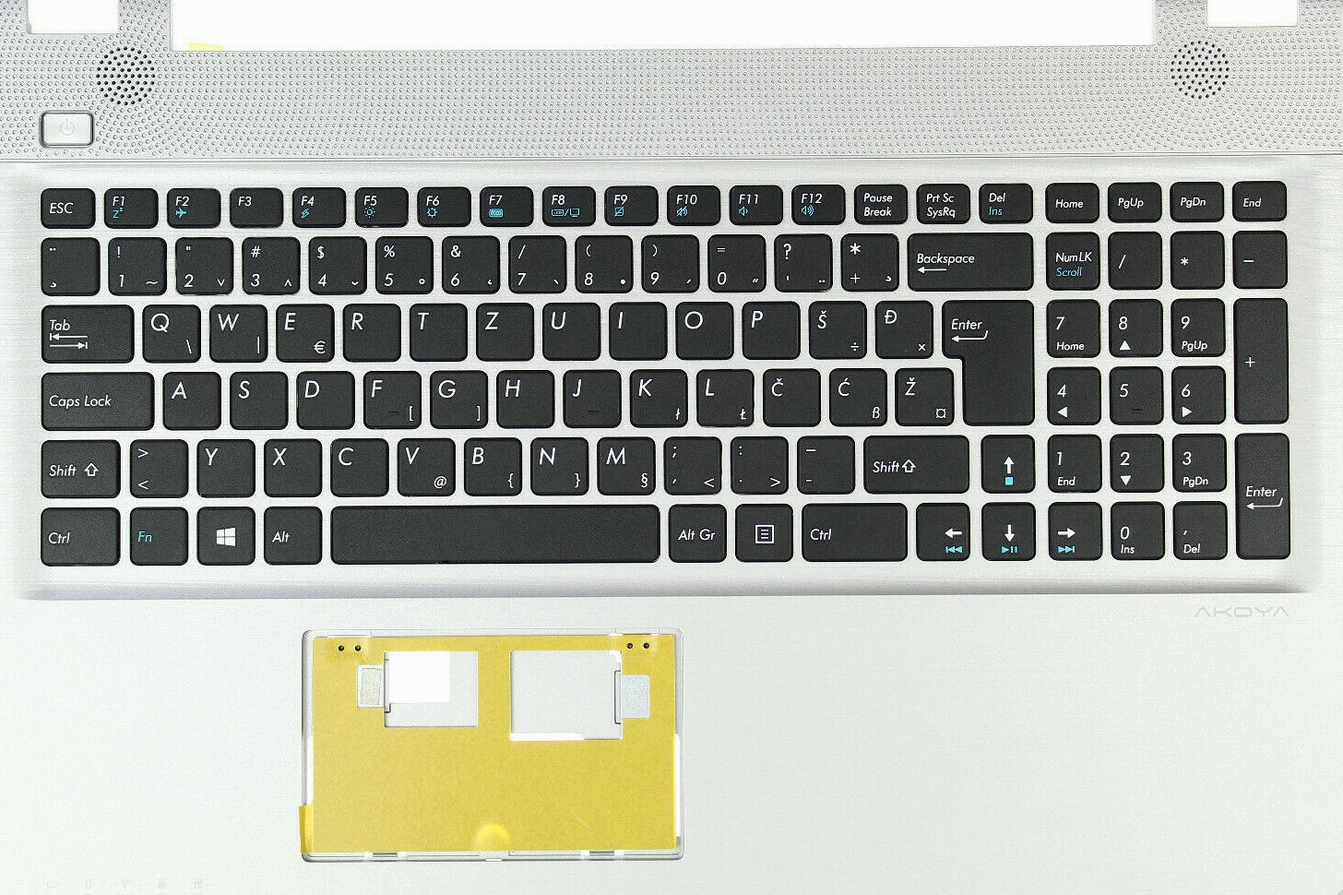0: (705, 232, 765, 291)
1: (107, 234, 165, 294)
2: (173, 234, 232, 293)
3: (240, 234, 299, 293)
4: (305, 233, 365, 292)
5: (373, 233, 432, 292)
6: (440, 233, 497, 292)
7: (507, 233, 565, 292)
8: (573, 233, 631, 292)
9: (639, 232, 698, 291)
a: (160, 369, 220, 428)
alt-left: (260, 505, 321, 564)
altgr-right: (666, 501, 725, 560)
b: (461, 436, 521, 495)
c: (328, 436, 388, 496)
comma: (662, 436, 721, 495)
d: (295, 369, 353, 429)
del: (905, 228, 1031, 289)
e: (273, 302, 333, 361)
enter: (939, 294, 1031, 423)
f: (362, 368, 420, 428)
g: (428, 366, 485, 427)
h: (494, 367, 553, 426)
i: (608, 300, 666, 359)
j: (562, 366, 620, 426)
k: (628, 365, 686, 426)
keyboard: (16, 151, 1312, 594)
l: (695, 366, 754, 426)
less: (128, 437, 188, 497)
m: (594, 433, 653, 494)
minus: (794, 433, 854, 493)
n: (527, 434, 586, 494)
o: (672, 298, 732, 359)
p: (741, 299, 799, 359)
plus: (838, 231, 897, 291)
point: (729, 434, 788, 494)
q: (138, 300, 198, 361)
r: (341, 302, 401, 362)
s: (228, 369, 287, 429)
shift-left: (35, 435, 118, 497)
shift-lock: (35, 368, 153, 429)
shift-right: (861, 431, 969, 493)
space: (328, 502, 658, 562)
strg-left: (34, 504, 118, 565)
strg-right: (796, 500, 908, 560)
t: (409, 301, 467, 360)
tab: (37, 300, 132, 362)
u: (541, 300, 600, 360)
v: (395, 436, 455, 495)
w: (209, 303, 267, 364)
x: (261, 436, 321, 496)
y: (196, 437, 256, 497)
z: (475, 300, 533, 360)
